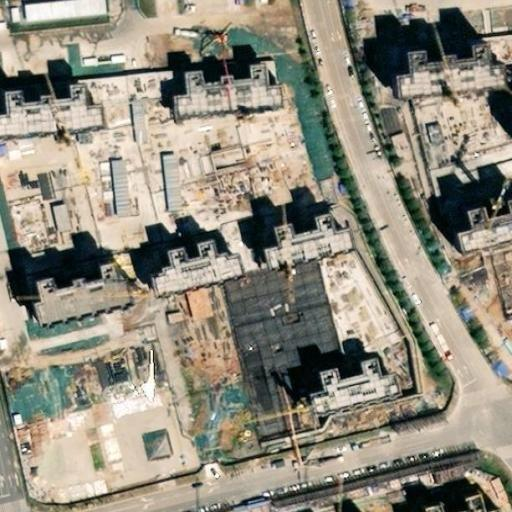building: (167, 54, 265, 110), (0, 264, 95, 321), (253, 209, 348, 266), (297, 345, 392, 401), (129, 239, 224, 295), (419, 15, 512, 71), (0, 89, 75, 142), (449, 173, 512, 229), (444, 485, 483, 512), (412, 496, 444, 512)
